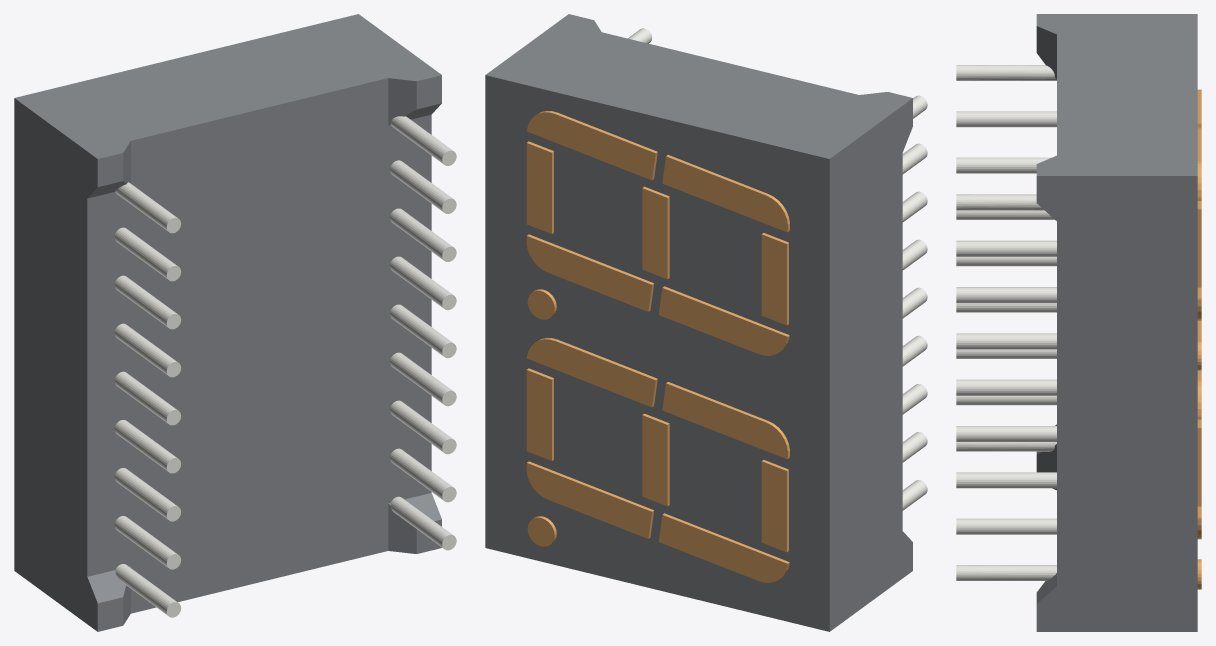
The model's file is DA56-11SEKWA.glb.
3 views of the same model, side by side, from view 1: azimuth 30°, elevation 25°; view 2: azimuth 150°, elevation 25°; view 3: azimuth 270°, elevation 25° (orthographic). The views are drawn at different scales.
Visible parts, largest first — view 1: Shape_IndexedFaceSet.010, Shape_IndexedFaceSet.023, Shape_IndexedFaceSet.007, Shape_IndexedFaceSet.027, Shape_IndexedFaceSet.008, Shape_IndexedFaceSet.028, Shape_IndexedFaceSet.004, Shape_IndexedFaceSet.017, Shape_IndexedFaceSet.118, Shape_IndexedFaceSet.016, Shape_IndexedFaceSet.018, Shape_IndexedFaceSet.121 (+19 smaller); view 2: Shape_IndexedFaceSet.024, Shape_IndexedFaceSet.023, Shape_IndexedFaceSet.007, Shape_IndexedFaceSet.126, Shape_IndexedFaceSet.139, Shape_IndexedFaceSet.131, Shape_IndexedFaceSet.136, Shape_IndexedFaceSet.133, Shape_IndexedFaceSet.134, Shape_IndexedFaceSet.141, Shape_IndexedFaceSet.129, Shape_IndexedFaceSet.127 (+7 smaller); view 3: Shape_IndexedFaceSet.009, Shape_IndexedFaceSet.007, Shape_IndexedFaceSet.014, Shape_IndexedFaceSet.015, Shape_IndexedFaceSet.017, Shape_IndexedFaceSet.018, Shape_IndexedFaceSet.019, Shape_IndexedFaceSet.020, Shape_IndexedFaceSet.118, Shape_IndexedFaceSet.016, Shape_IndexedFaceSet.012, Shape_IndexedFaceSet.039 (+12 smaller).
Part boxes in pixels (<box>): Shape_IndexedFaceSet.010: <box>131,125,388,565</box>; Shape_IndexedFaceSet.023: <box>14,98,97,631</box>; Shape_IndexedFaceSet.007: <box>15,14,441,158</box>; Shape_IndexedFaceSet.027: <box>87,192,130,576</box>; Shape_IndexedFaceSet.008: <box>131,78,388,186</box>; Shape_IndexedFaceSet.028: <box>131,503,388,613</box>; Shape_IndexedFaceSet.004: <box>388,114,431,503</box>; Shape_IndexedFaceSet.017: <box>390,256,452,307</box>; Shape_IndexedFaceSet.118: <box>114,227,177,279</box>; Shape_IndexedFaceSet.016: <box>390,352,453,403</box>; Shape_IndexedFaceSet.018: <box>390,304,452,355</box>; Shape_IndexedFaceSet.121: <box>114,323,176,375</box>; Shape_IndexedFaceSet.024: <box>485,75,829,631</box>; Shape_IndexedFaceSet.023: <box>829,98,912,631</box>; Shape_IndexedFaceSet.007: <box>486,14,912,158</box>; Shape_IndexedFaceSet.126: <box>662,156,787,232</box>; Shape_IndexedFaceSet.139: <box>526,339,655,407</box>; Shape_IndexedFaceSet.131: <box>526,236,651,311</box>; Shape_IndexedFaceSet.136: <box>662,383,787,459</box>; Shape_IndexedFaceSet.133: <box>526,112,655,180</box>; Shape_IndexedFaceSet.134: <box>658,515,787,582</box>; Shape_IndexedFaceSet.141: <box>526,463,651,538</box>; Shape_IndexedFaceSet.129: <box>658,288,787,355</box>; Shape_IndexedFaceSet.127: <box>642,188,667,279</box>; Shape_IndexedFaceSet.009: <box>1036,176,1197,631</box>; Shape_IndexedFaceSet.007: <box>1036,14,1197,175</box>; Shape_IndexedFaceSet.014: <box>956,518,1056,534</box>; Shape_IndexedFaceSet.015: <box>956,472,1056,488</box>; Shape_IndexedFaceSet.017: <box>956,333,1056,349</box>; Shape_IndexedFaceSet.018: <box>956,379,1056,395</box>; Shape_IndexedFaceSet.019: <box>956,287,1056,303</box>; Shape_IndexedFaceSet.020: <box>956,240,1056,256</box>; Shape_IndexedFaceSet.118: <box>956,111,1056,127</box>; Shape_IndexedFaceSet.016: <box>956,426,1056,441</box>; Shape_IndexedFaceSet.012: <box>956,565,1056,580</box>; Shape_IndexedFaceSet.039: <box>956,65,1056,80</box>.
Size of the model in its own units: 7.5 by 9.84 by 4.8.
